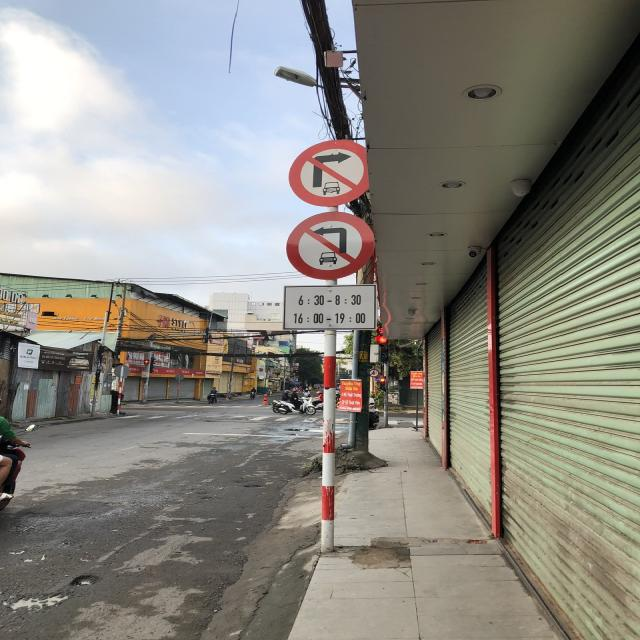Bien bao cam xe o to re phai: (284, 135, 376, 208)
Bien bao cam xe o to re trai: (277, 209, 387, 284)
